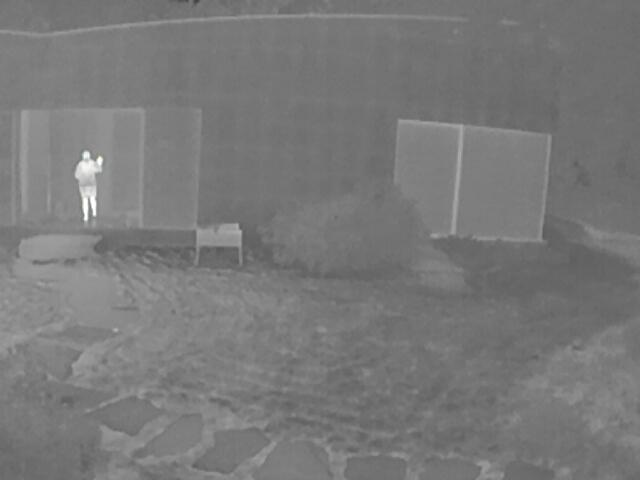person: (75, 150, 104, 223)
